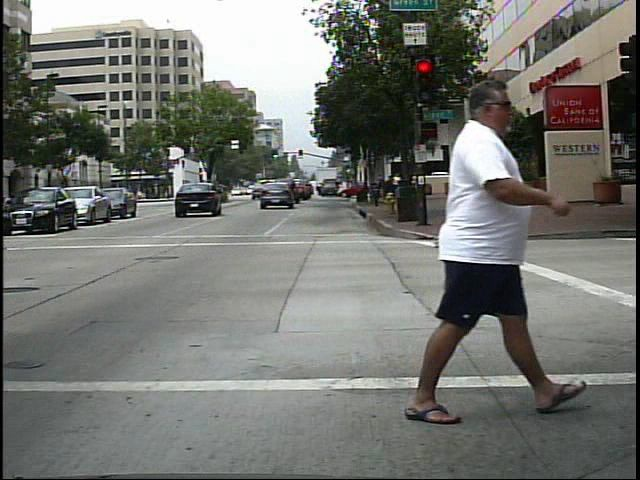person: (389, 72, 560, 426)
